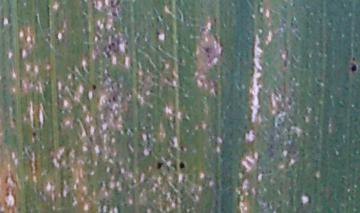tarspot: (155, 161, 165, 171), (350, 62, 358, 74), (108, 1, 120, 9), (177, 160, 185, 170), (110, 10, 119, 18), (178, 144, 186, 152), (91, 83, 98, 91), (31, 130, 38, 138), (159, 12, 165, 21), (106, 44, 113, 51), (128, 127, 135, 134), (111, 95, 117, 103), (155, 31, 161, 39), (350, 55, 356, 62), (148, 88, 154, 95), (154, 16, 160, 22)
